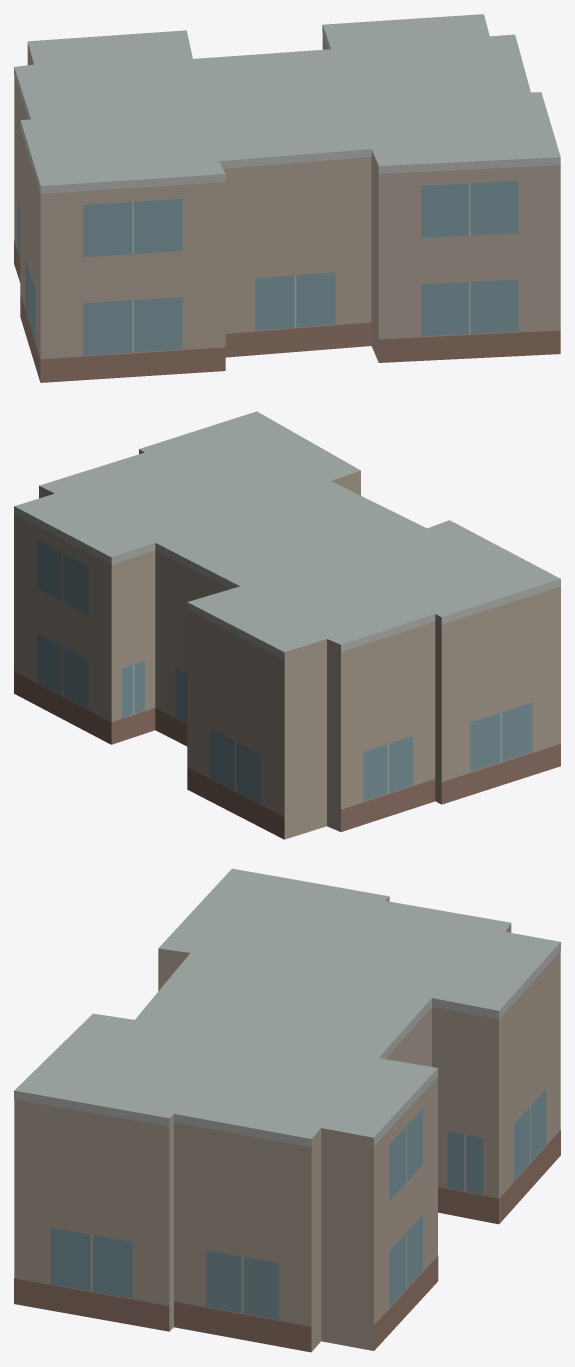
Rendered from survey-upis-32925919.glb.
3 renders of one model, top to bottom at view 1: azimuth 30°, elevation 25°; view 2: azimuth 150°, elevation 25°; view 3: azimuth 270°, elevation 25°, orthographic. The views are drawn at different scales.
Visible parts, largest first — view 1: survey-upis-32925919.tmp; view 2: survey-upis-32925919.tmp; view 3: survey-upis-32925919.tmp.
Part boxes in pixels (bbox=[...]): survey-upis-32925919.tmp: bbox=[14, 14, 560, 382]; survey-upis-32925919.tmp: bbox=[14, 411, 560, 839]; survey-upis-32925919.tmp: bbox=[14, 868, 560, 1352].
Bounding box in the file's own units: 16.6 × 6.1 × 14.18.
